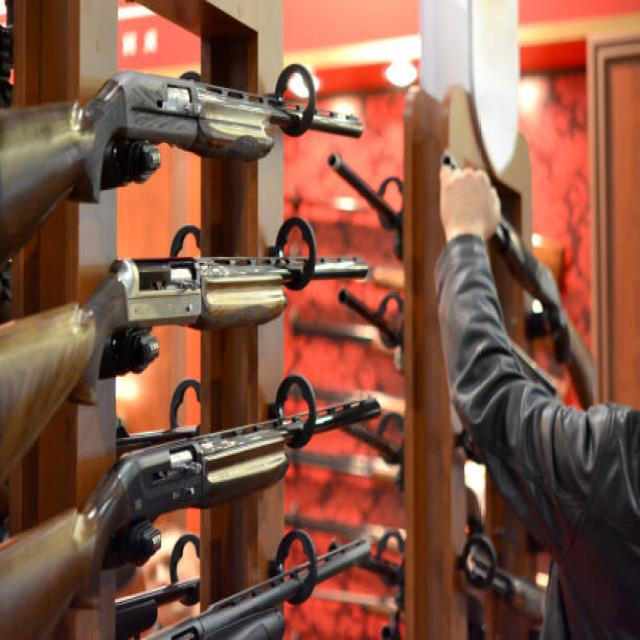ShotGun: (0, 400, 382, 640), (0, 257, 370, 488), (0, 71, 363, 269)
